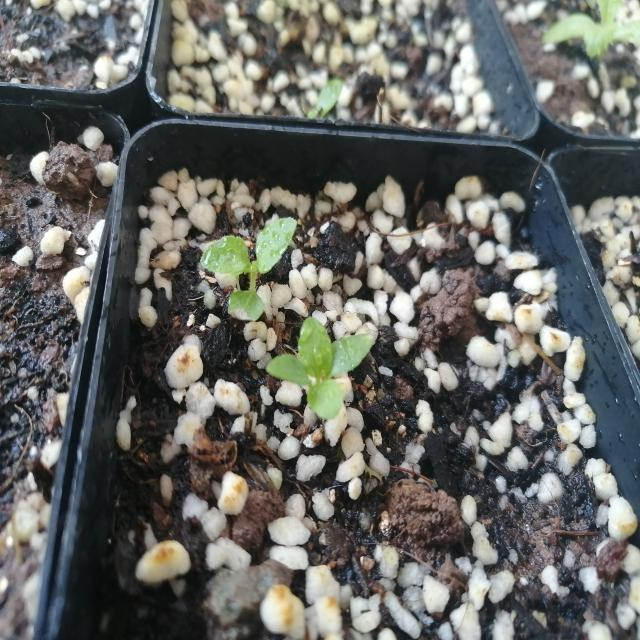billygoat_weed: (185, 178, 298, 342), (260, 317, 394, 437)
